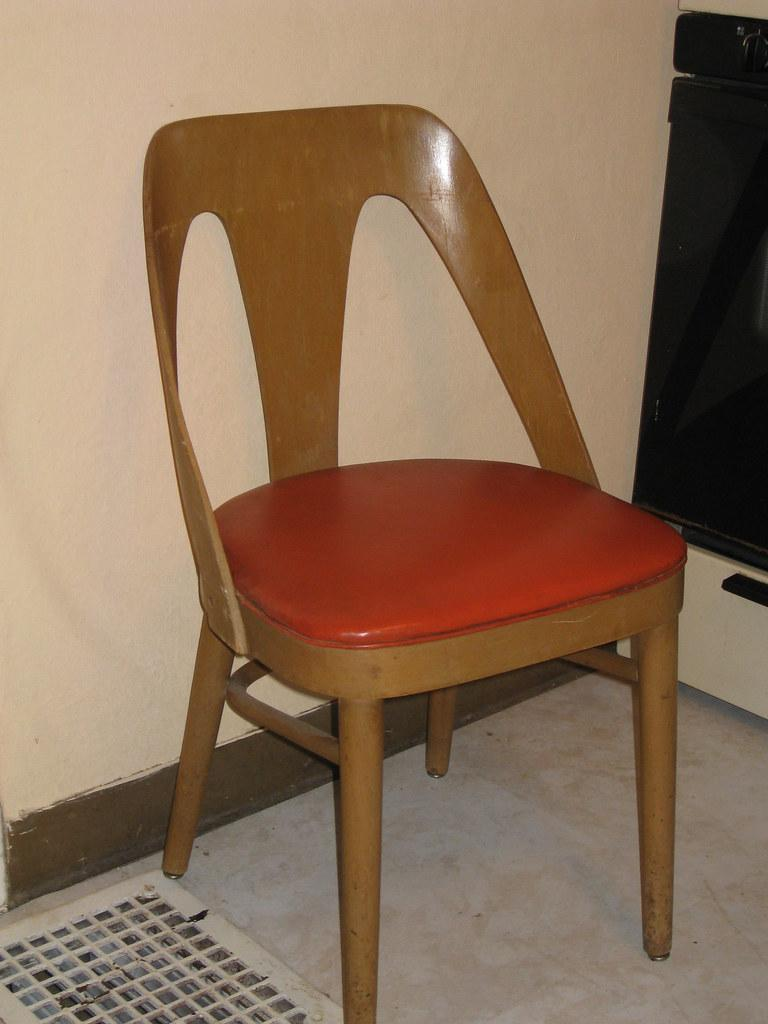chair: (142, 103, 688, 1023)
